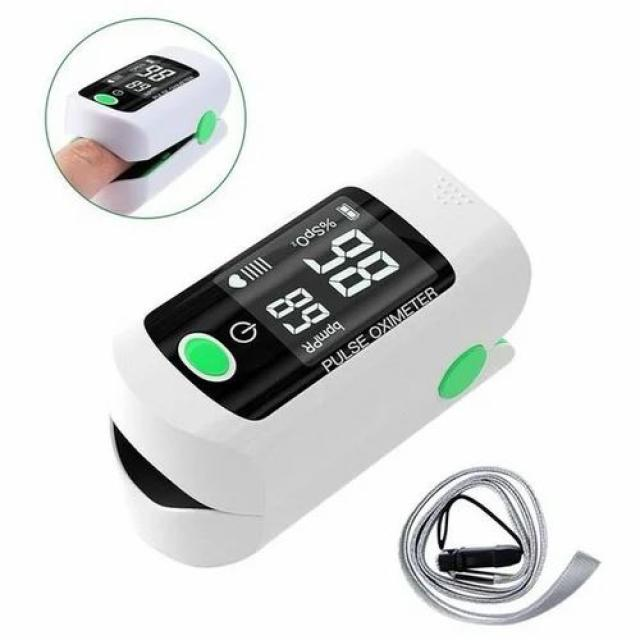oximeter: (45, 1, 264, 223)
